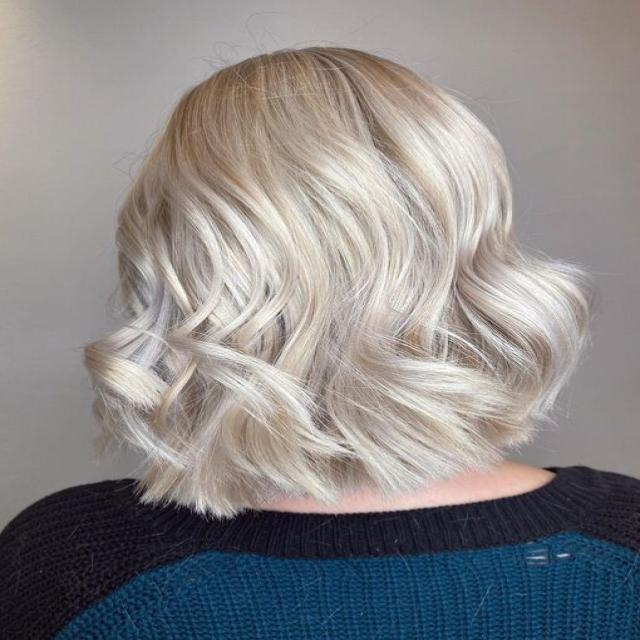Nonhelmet: (80, 43, 594, 518)
